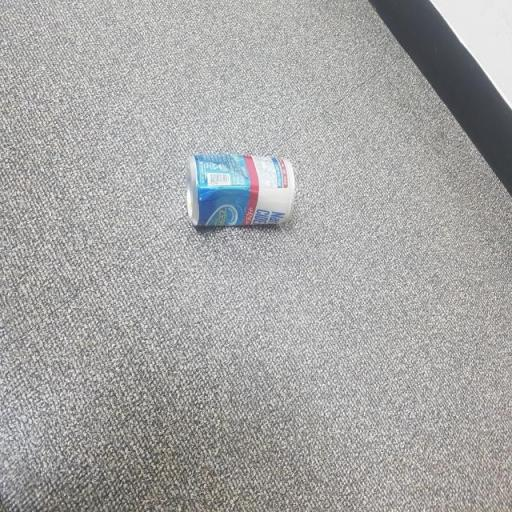metal: (174, 129, 306, 254)
